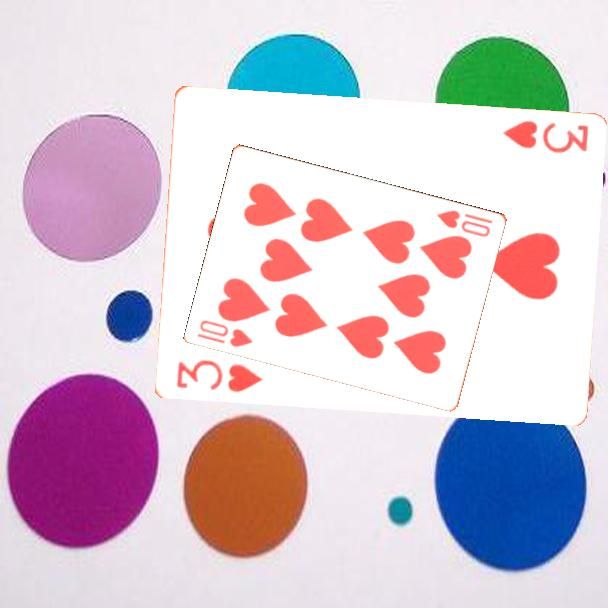h03: (172, 356, 265, 396), (499, 117, 591, 157)
h10: (434, 206, 496, 240), (194, 316, 256, 350)
